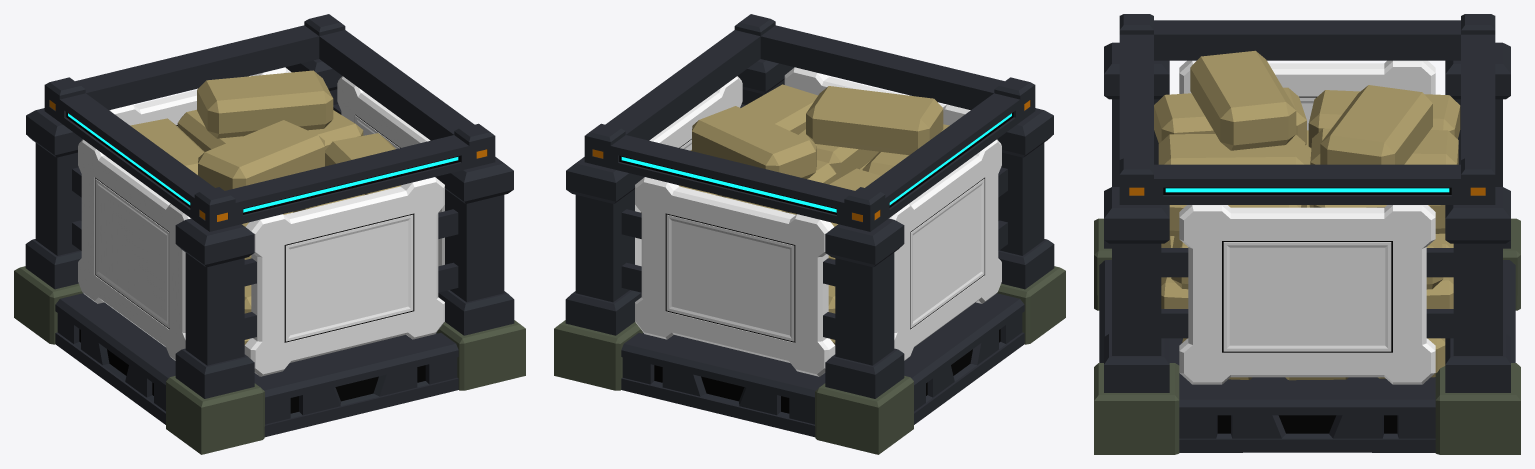
File: SM_Military_Wall_T1.fbx
The picture shows the model from 3 angles, left to right: view 1: azimuth 30°, elevation 25°; view 2: azimuth 150°, elevation 25°; view 3: azimuth 270°, elevation 25°; orthographic projection. The views are drawn at different scales.
Parts seen in each view (by area): view 1: SM_Military_Wall_T1; view 2: SM_Military_Wall_T1; view 3: SM_Military_Wall_T1.
Boxes of the visible parts, x1,y1,x2,y2 form: SM_Military_Wall_T1: (14, 14, 525, 454); SM_Military_Wall_T1: (554, 14, 1065, 454); SM_Military_Wall_T1: (1094, 14, 1520, 454).
Size of the model in its own units: 100 by 70.6 by 100.
